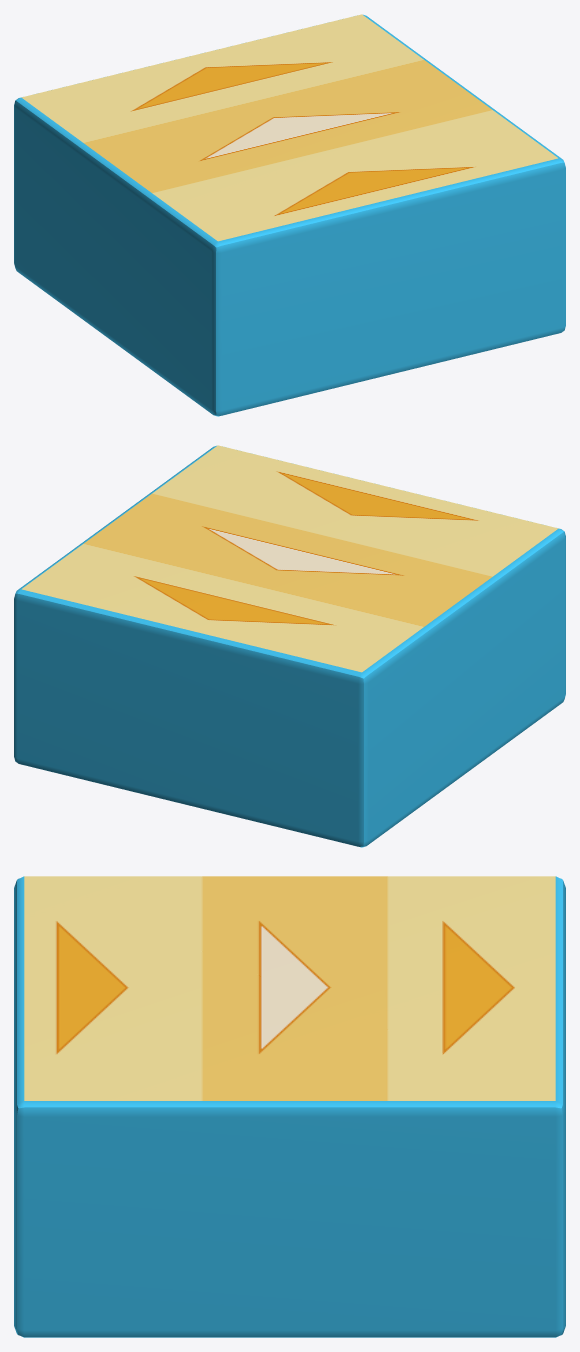
The model's file is PLF0110020.fbx.
3 renders of one model, top to bottom at view 1: azimuth 30°, elevation 25°; view 2: azimuth 150°, elevation 25°; view 3: azimuth 270°, elevation 25°, orthographic. The views are drawn at different scales.
Parts seen in each view (by area): view 1: smPLF0110020; view 2: smPLF0110020; view 3: smPLF0110020.
Boxes of the visible parts, left/top/right/bottom form: smPLF0110020: left=14, top=14, right=565, bottom=416; smPLF0110020: left=14, top=445, right=565, bottom=847; smPLF0110020: left=14, top=876, right=565, bottom=1337.
Bounding box in the file's own units: 199 × 94.02 × 199.
Materials: 2 (2 with a texture image).
